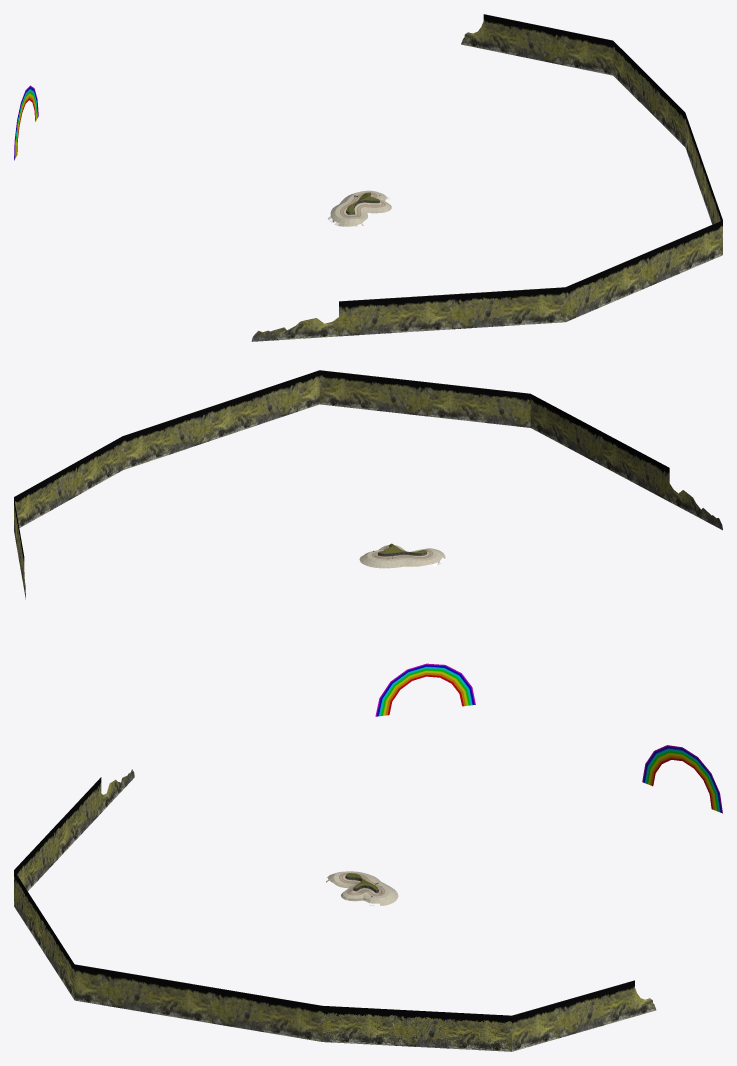
3 views of the same model, one above another, from view 1: azimuth 30°, elevation 25°; view 2: azimuth 150°, elevation 25°; view 3: azimuth 270°, elevation 25° (orthographic). The views are drawn at different scales.
Parts seen in each view (by area): view 1: LB-SKP--mountain, LB-SKP--Sand; view 2: LB-SKP--mountain, LB-SKP--Rainbow, LB-SKP--Sand; view 3: LB-SKP--mountain, LB-SKP--Rainbow, LB-SKP--Sand.
Boxes of the visible parts, x1,y1,x2,y2 form: LB-SKP--mountain: (251, 14, 722, 341); LB-SKP--Sand: (330, 190, 391, 226); LB-SKP--mountain: (14, 370, 722, 599); LB-SKP--Rainbow: (375, 663, 475, 716); LB-SKP--Sand: (359, 545, 445, 568); LB-SKP--mountain: (14, 769, 656, 1051); LB-SKP--Rainbow: (642, 745, 722, 813); LB-SKP--Sand: (326, 871, 398, 905).
Size of the model in its own units: 527011 by 46811 by 575528.
Materials: 25 (24 with a texture image).
